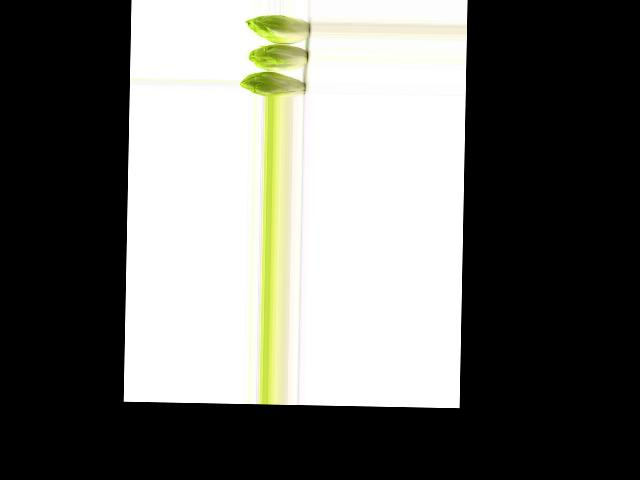lettuce: (244, 14, 312, 43)
